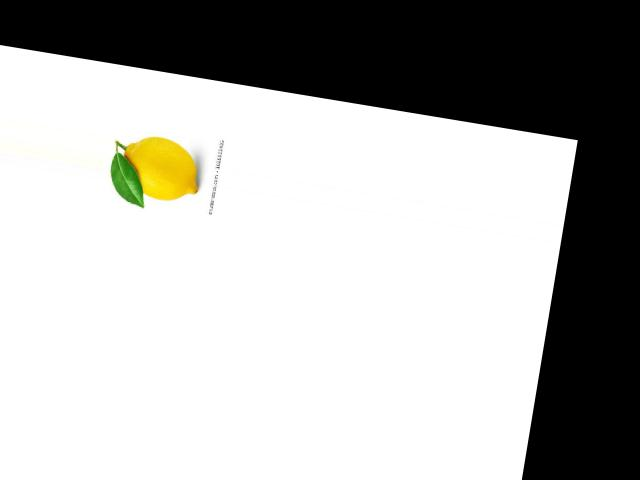lemon: (112, 129, 206, 213)
